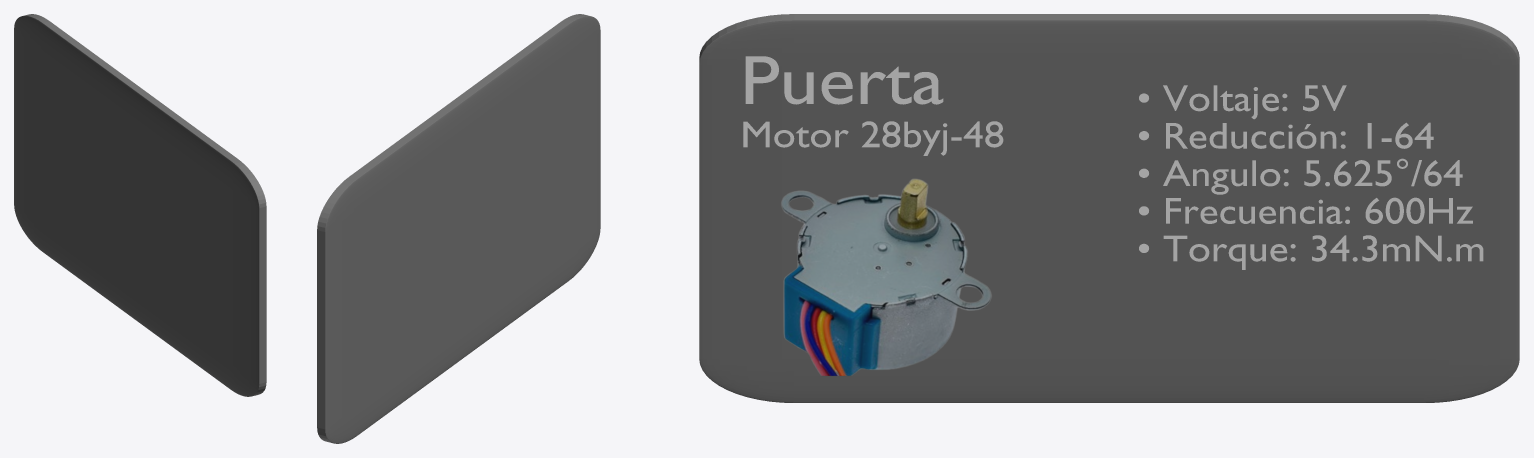
File: PuertaPopUp.glb
The picture shows the model from 3 angles, left to right: view 1: azimuth 30°, elevation 25°; view 2: azimuth 150°, elevation 25°; view 3: azimuth 270°, elevation 25°; orthographic projection. The views are drawn at different scales.
Parts seen in each view (by area): view 1: Cube; view 2: Cube; view 3: Cube, motorsitoPasoAPaso, Text.002, Text, Text.001.
Part boxes in pixels (x1=…): Cube: x1=14, y1=14, x2=266, y2=396; Cube: x1=317, y1=14, x2=600, y2=443; Cube: x1=699, y1=14, x2=1519, y2=402; motorsitoPasoAPaso: x1=781, y1=178, x2=991, y2=375; Text.002: x1=1139, y1=85, x2=1483, y2=269; Text: x1=745, y1=56, x2=943, y2=104; Text.001: x1=743, y1=121, x2=1003, y2=155.
Size of the model in its own units: 0.247 by 3.22 by 6.13.
Materials: 5 (1 with a texture image).
